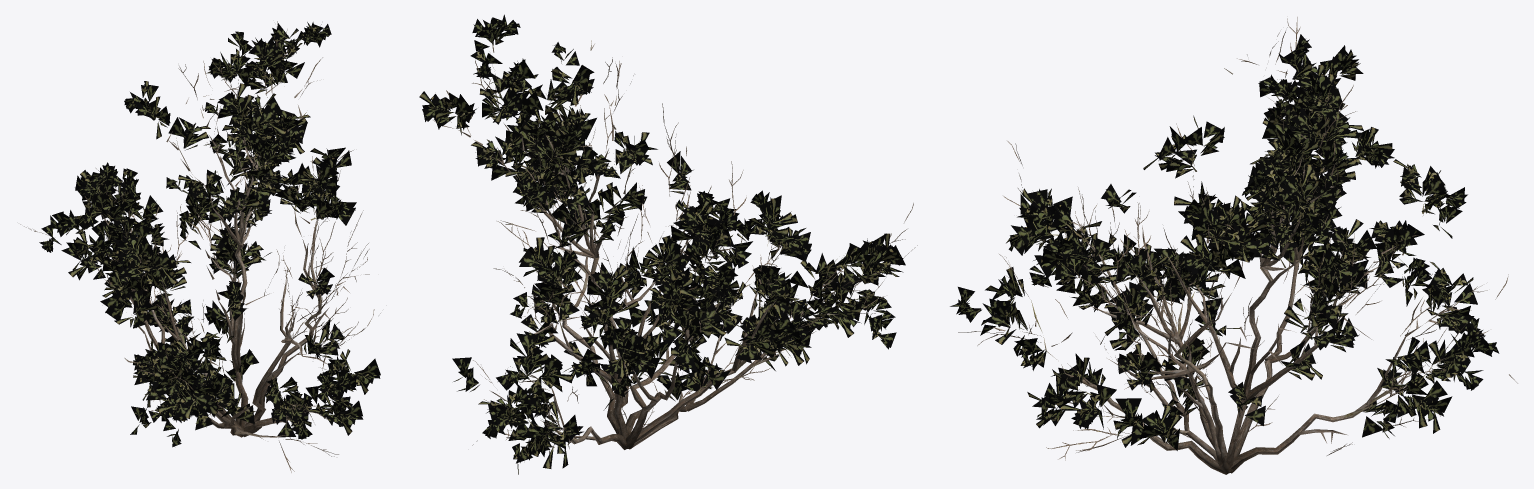
The model's file is searsia.glb.
The picture shows the model from 3 angles, left to right: view 1: azimuth 30°, elevation 25°; view 2: azimuth 150°, elevation 25°; view 3: azimuth 270°, elevation 25°; orthographic projection. The views are drawn at different scales.
Parts seen in each view (by area): view 1: searsia; view 2: searsia; view 3: searsia.
Part boxes in pixels (x1,y1,x2,y2): searsia: [20, 21, 380, 472]; searsia: [419, 14, 917, 474]; searsia: [950, 17, 1517, 474].
Size of the model in its own units: 1.64 by 1.87 by 2.15.
Materials: 2 (2 with a texture image).
